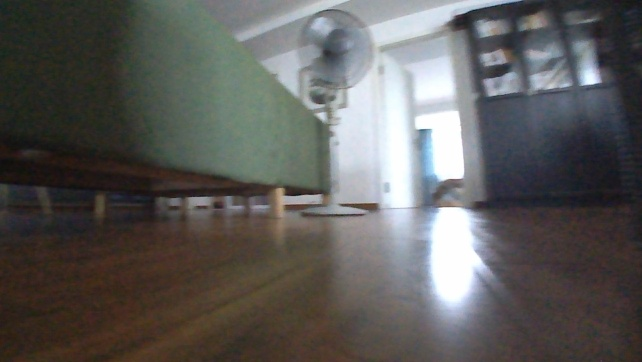chair_base: (297, 199, 369, 218)
sofa1: (0, 0, 334, 221)
